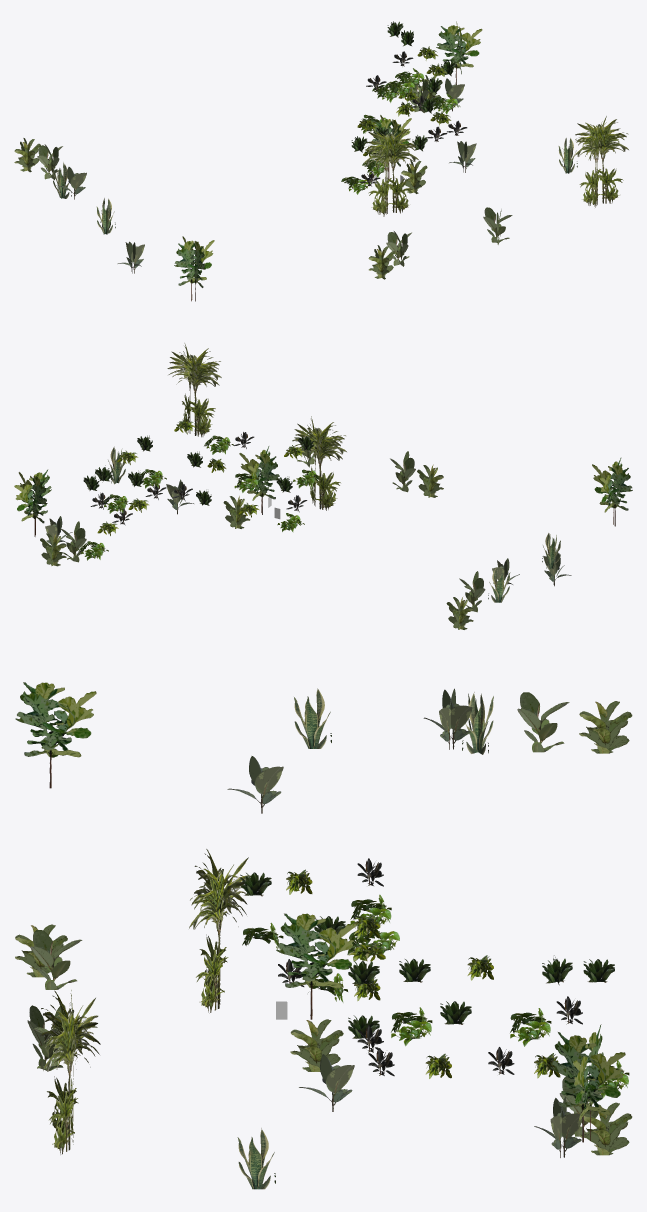
The model's file is Plants.fbx.
The picture shows the model from 3 angles, top to bottom: view 1: azimuth 30°, elevation 25°; view 2: azimuth 150°, elevation 25°; view 3: azimuth 270°, elevation 25°; orthographic projection. The views are drawn at different scales.
Parts seen in each view (by area): view 1: Plants; view 2: Plants; view 3: Plants.
Boxes of the visible parts, x1=… form: Plants: x1=14, y1=21, x2=628, y2=301; Plants: x1=14, y1=343, x2=632, y2=629; Plants: x1=15, y1=682, x2=632, y2=1189.
Bounding box in the file's own units: 8736 × 2039 × 5797.
